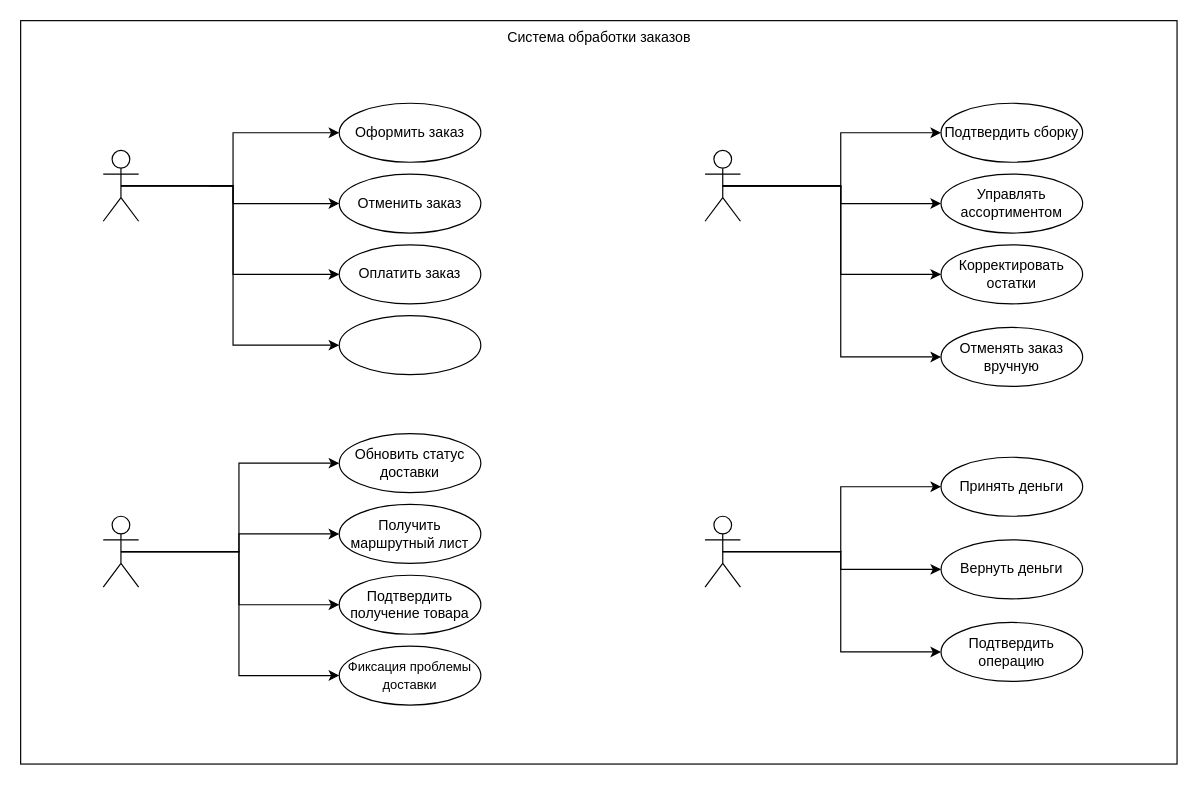
Some shapes in this 1198 by 785 pixel diagram are drawn without their labels. Each missing label, with the centre of its shape:
"Клиент" belongs at (x=120, y=185).
"Крьер" belongs at (x=120, y=551).
"Менеджер" belongs at (x=722, y=185).
"Отследить доставку" belongs at (x=409, y=344).
"Платежная система" belongs at (x=722, y=551).
